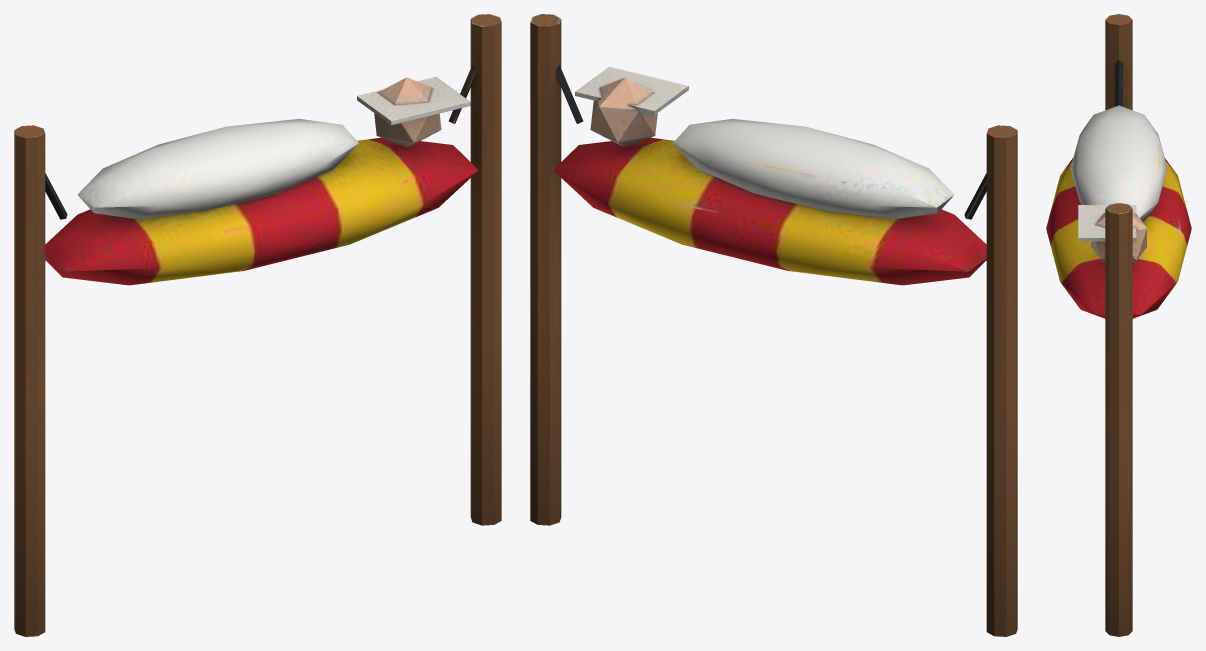
File: hamaca.glb
The picture shows the model from 3 angles, left to right: view 1: azimuth 30°, elevation 25°; view 2: azimuth 150°, elevation 25°; view 3: azimuth 270°, elevation 25°; orthographic projection. The views are drawn at different scales.
Visible parts, largest first — view 1: hamaca; view 2: hamaca; view 3: hamaca.
Part boxes in pixels (x1,y1,x2,y2): hamaca: (14,14,501,636); hamaca: (530,14,1017,636); hamaca: (1046,14,1191,636).
Bounding box in the file's own units: 2.44 × 2.4 × 0.75.
1 material, 1 textured.
